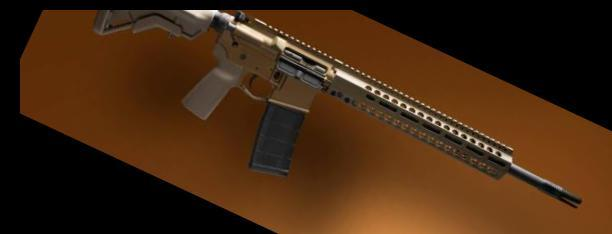larga: (92, 10, 582, 211)
